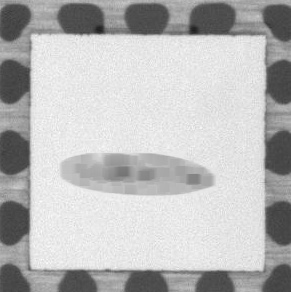DIE_INK: (49, 149, 226, 201)
